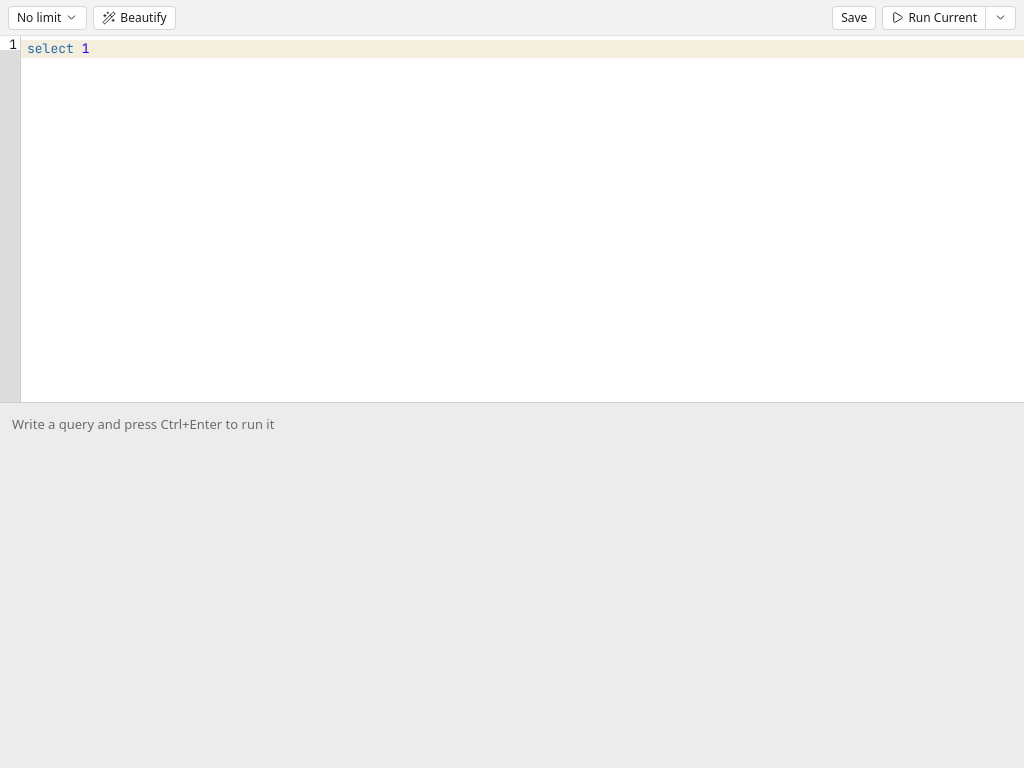
Test case: the backend's name error stays in the dialog
Press s
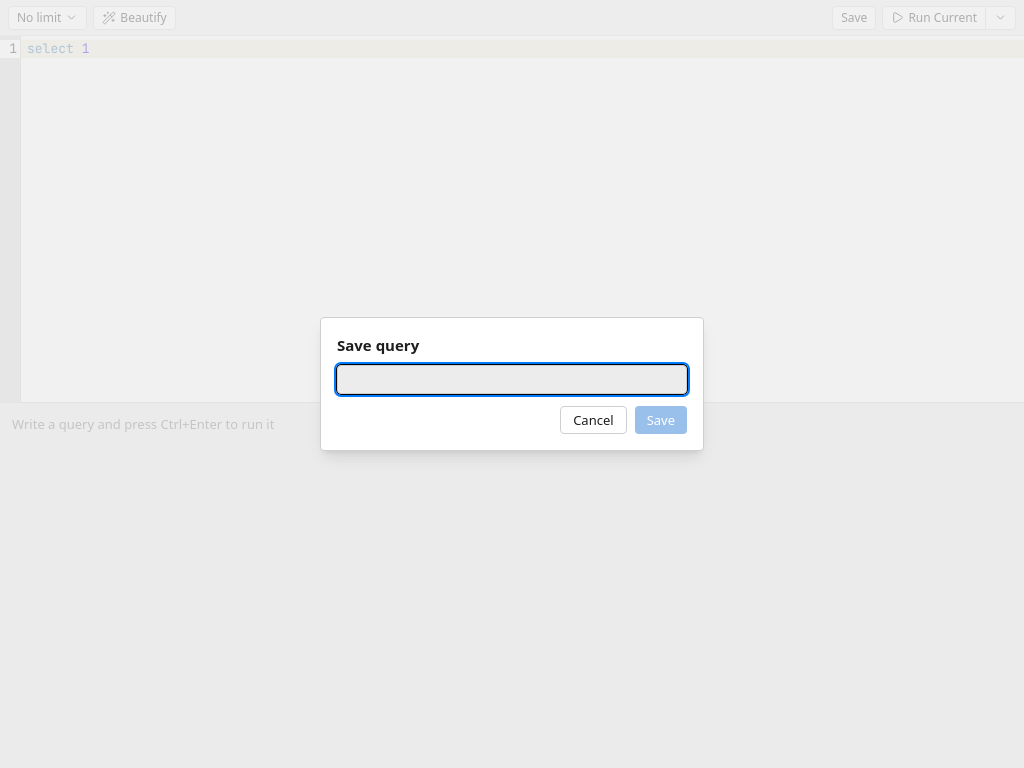
Type "../x" into the field named "Name" at [512, 380], box [337, 366, 687, 394]
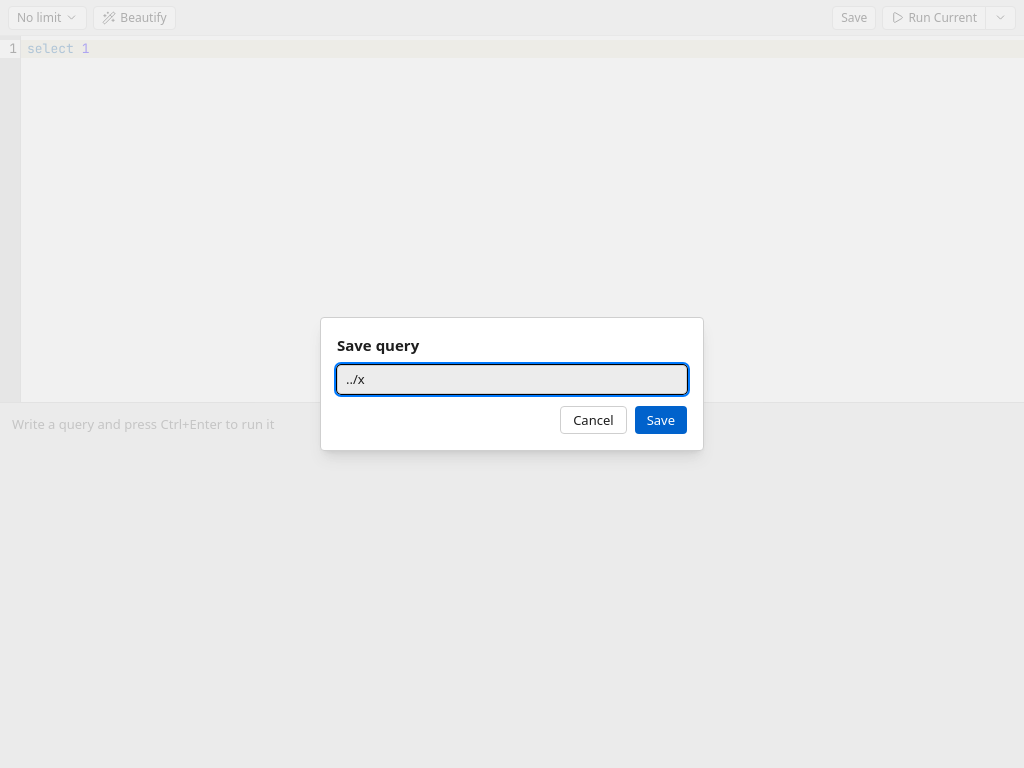
Click the button "Save" at [661, 420], box [635, 406, 687, 434]
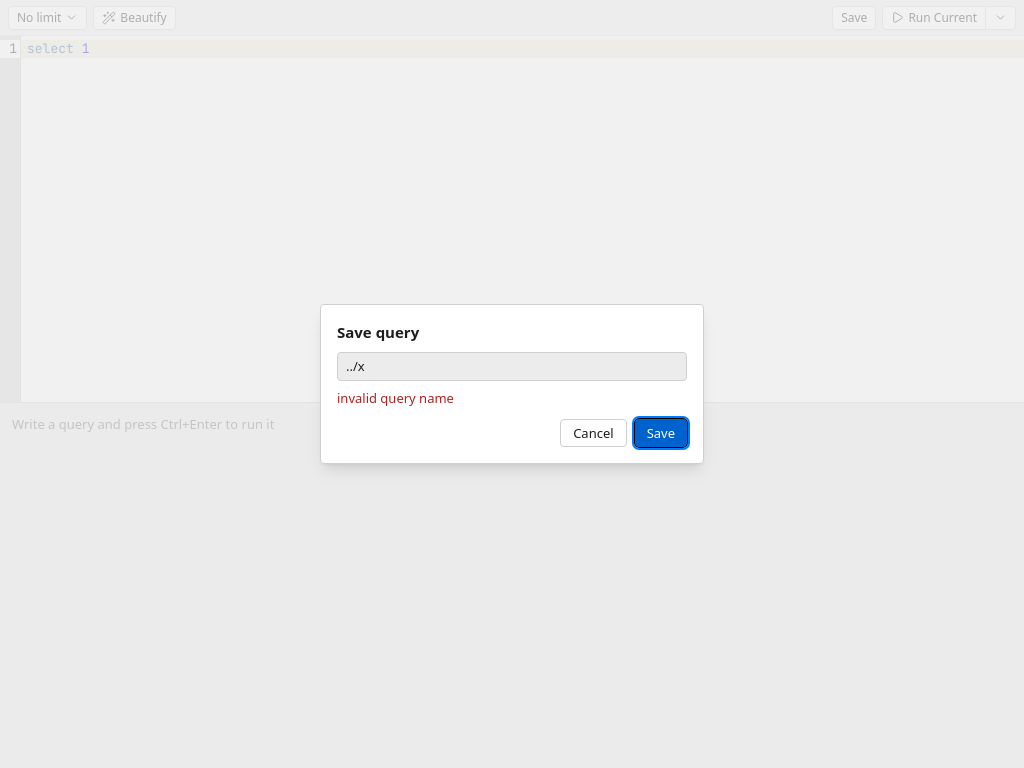
Now the text "invalid query name" is shown, box [337, 389, 454, 407]
